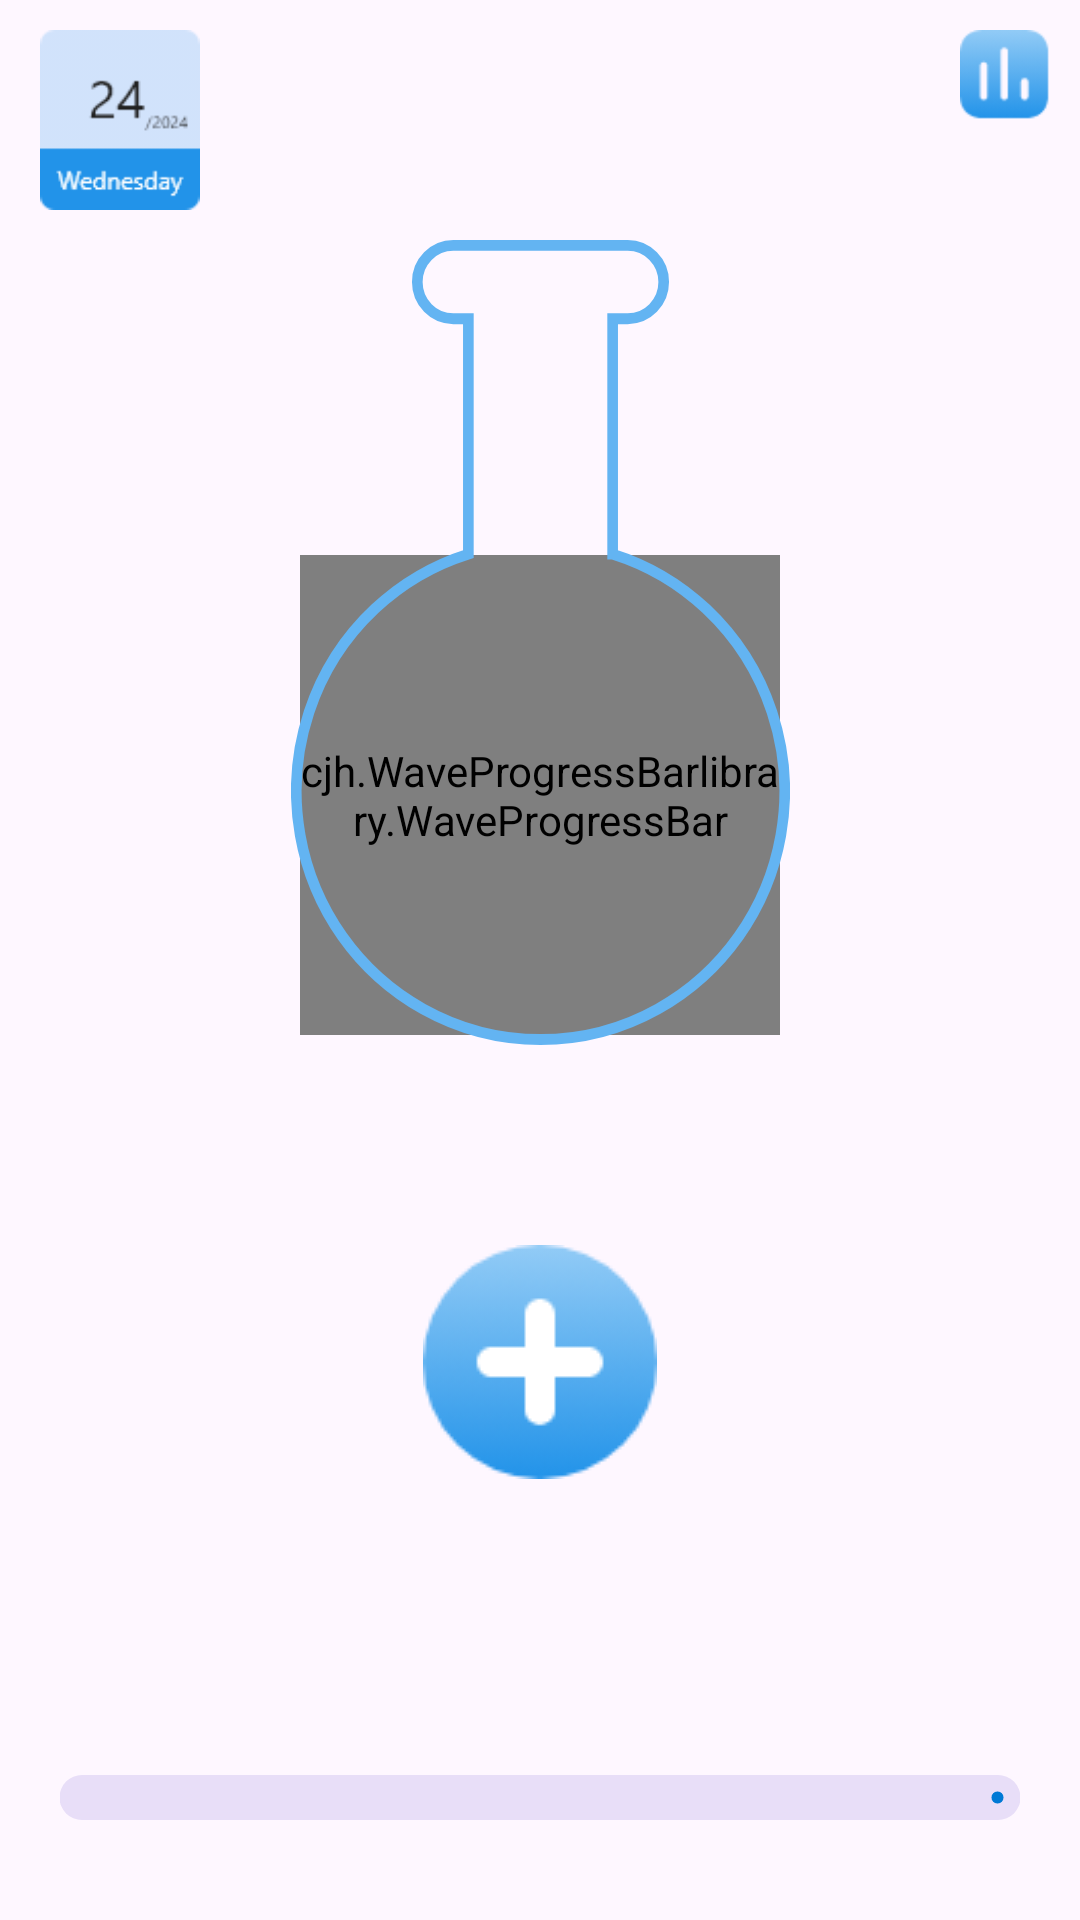

Locate icon controls on the screen. Image size 1080x1920, boxes as rect(x1, y1, x2, y2).
add: rect(423, 1245, 657, 1479)
calender: rect(40, 30, 200, 210)
chart: rect(960, 30, 1049, 119)
